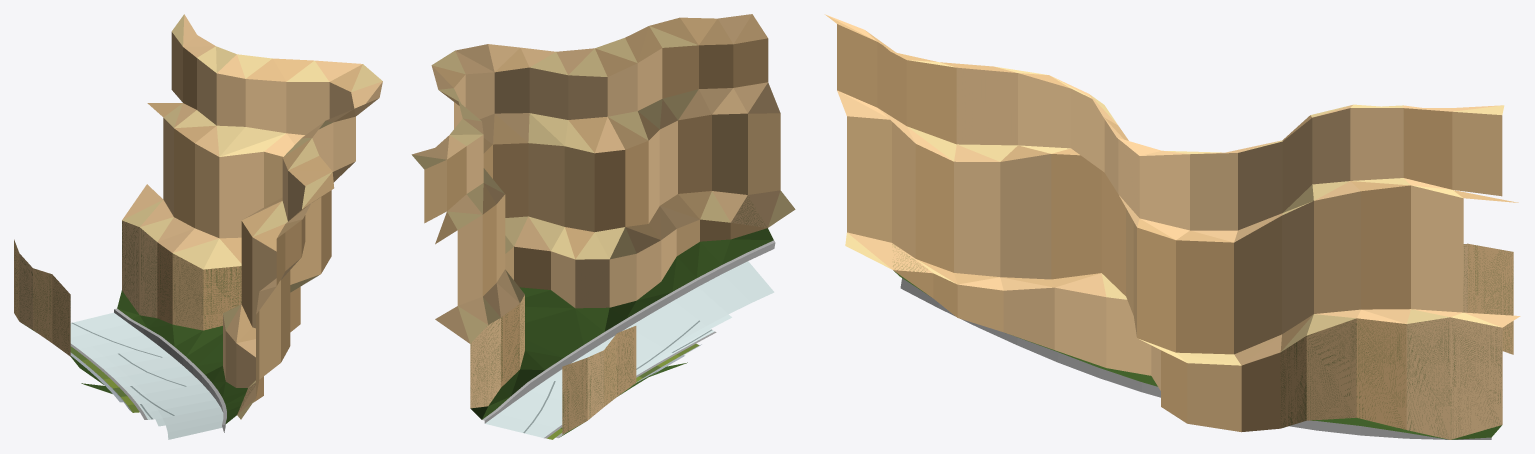
3 views of the same model, side by side, from view 1: azimuth 30°, elevation 25°; view 2: azimuth 150°, elevation 25°; view 3: azimuth 270°, elevation 25° (orthographic). The views are drawn at different scales.
Parts seen in each view (by area): view 1: O37DE5; view 2: O37DE5; view 3: O37DE5.
Part boxes in pixels (x1,y1,x2,y2): O37DE5: (14, 14, 382, 439); O37DE5: (411, 14, 795, 439); O37DE5: (824, 14, 1520, 439).
Size of the model in its own units: 88.72 by 84.15 by 136.
